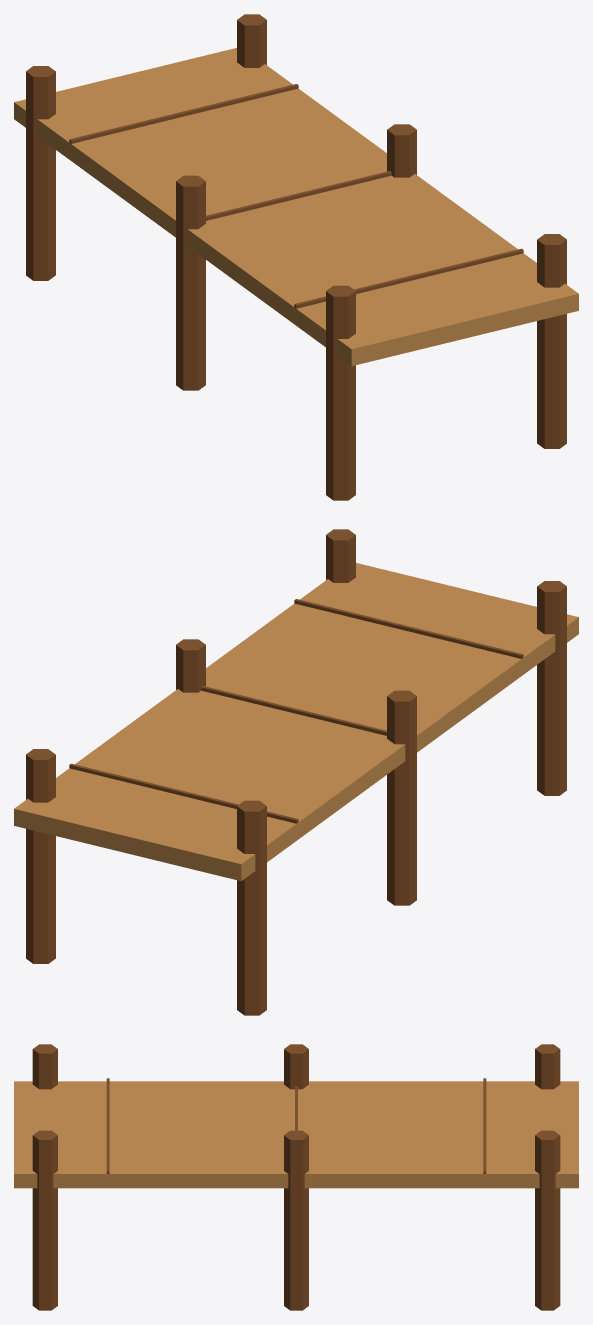
File: wooden_dock.glb
3 views of the same model, one above another, from view 1: azimuth 30°, elevation 25°; view 2: azimuth 150°, elevation 25°; view 3: azimuth 270°, elevation 25° (orthographic). The views are drawn at different scales.
Visible parts, largest first — view 1: wooden_dock; view 2: wooden_dock; view 3: wooden_dock.
Boxes of the visible parts, <box> form: wooden_dock: <box>14,14,578,500</box>; wooden_dock: <box>14,529,578,1015</box>; wooden_dock: <box>14,1044,578,1310</box>.
Size of the model in its own units: 1.44 by 1.2 by 3.6.
